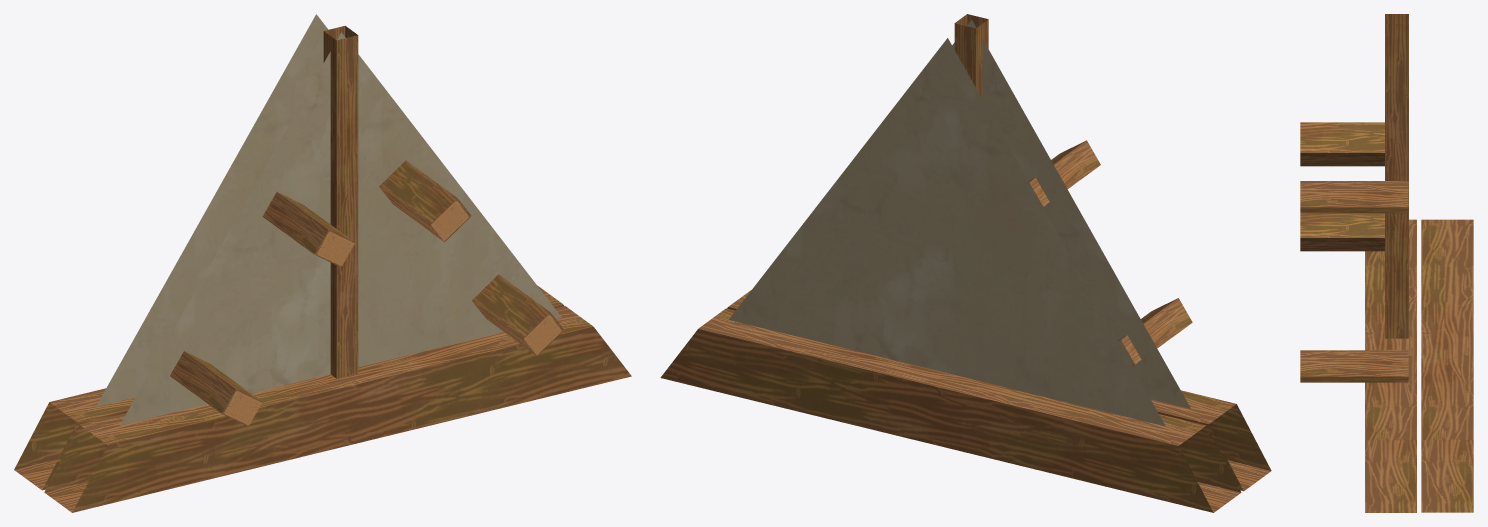
File: Roof_Front_Brick2.glb
3 renders of one model, left to right at view 1: azimuth 30°, elevation 25°; view 2: azimuth 150°, elevation 25°; view 3: azimuth 270°, elevation 25°, orthographic. The views are drawn at different scales.
Parts seen in each view (by area): view 1: Roof_Front_Brick2; view 2: Roof_Front_Brick2; view 3: Roof_Front_Brick2.
Part boxes in pixels (x1,y1,x2,y2): Roof_Front_Brick2: (14,14,631,512); Roof_Front_Brick2: (660,14,1271,512); Roof_Front_Brick2: (1300,14,1473,512).
Size of the model in its own units: 2.61 by 1.77 by 0.7512.
Materials: 2 (2 with a texture image).
